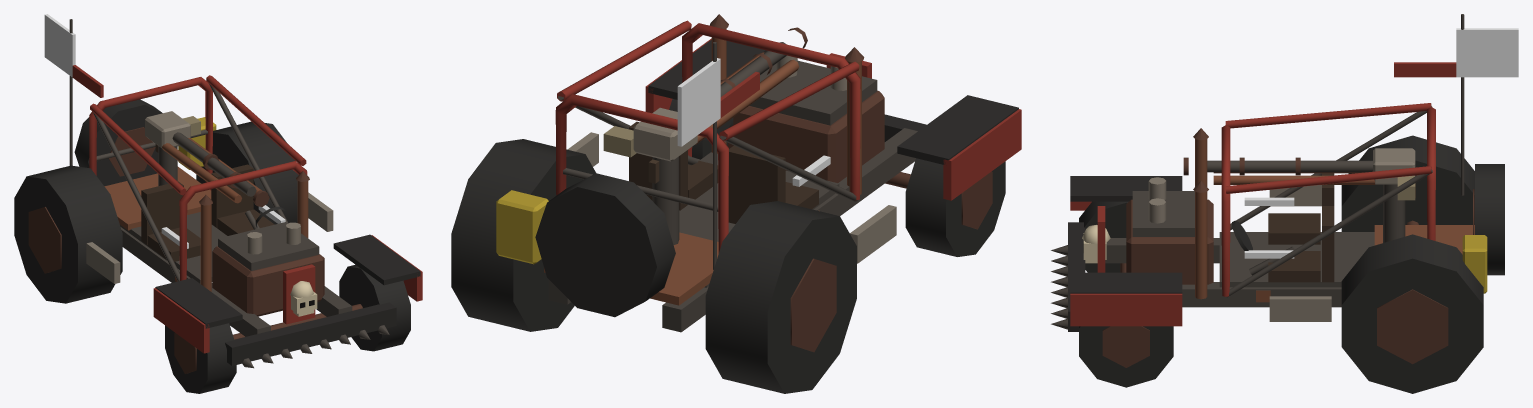
The picture shows the model from 3 angles, left to right: view 1: azimuth 30°, elevation 25°; view 2: azimuth 150°, elevation 25°; view 3: azimuth 270°, elevation 25°; orthographic projection. The views are drawn at different scales.
Visible parts, largest first — view 1: raider_vehicle_buggy; view 2: raider_vehicle_buggy; view 3: raider_vehicle_buggy.
Part boxes in pixels (x1,y1,x2,y2): raider_vehicle_buggy: (14, 14, 422, 393); raider_vehicle_buggy: (451, 14, 1021, 393); raider_vehicle_buggy: (1051, 14, 1518, 393).
Size of the model in its own units: 2.37 by 2.5 by 3.76.
